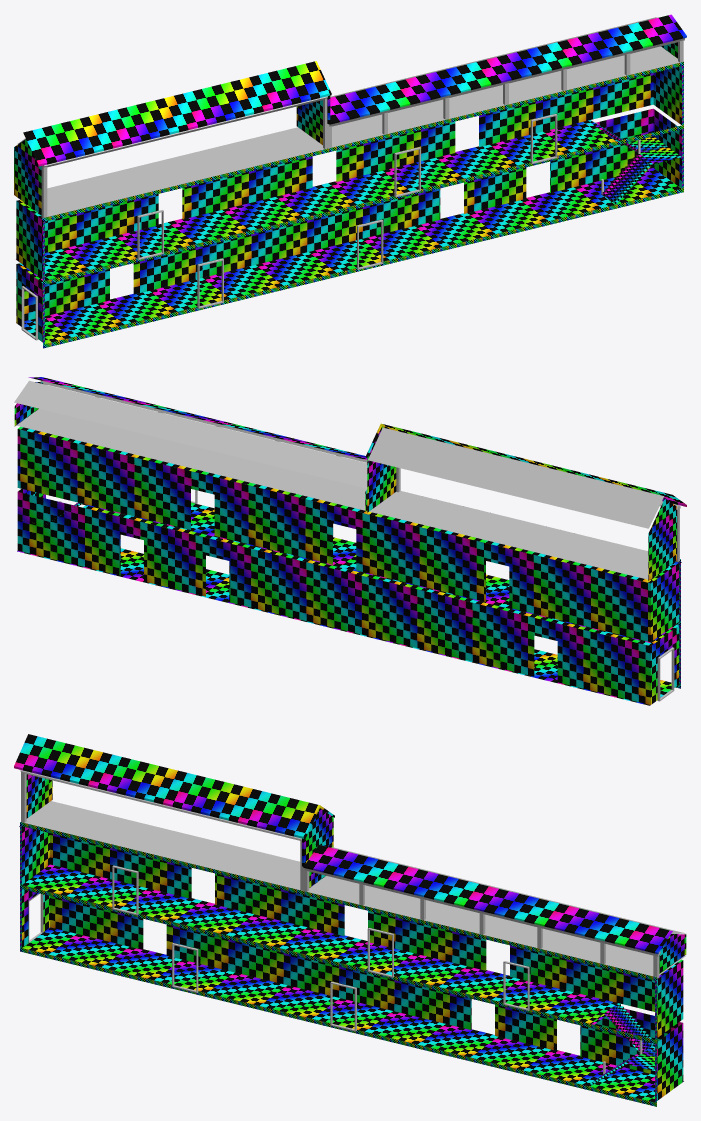
The model's file is HausMid.FBX.
3 renders of one model, top to bottom at view 1: azimuth 30°, elevation 25°; view 2: azimuth 150°, elevation 25°; view 3: azimuth 330°, elevation 25°, orthographic.
Parts seen in each view (by area): view 1: MidRoof, MidUpperCorridorWall, MidLowerCorridorWall, MidLowerCorridorFloor, MidUpperCorridorFloor, MidAtticFloor, MidBeams, MidWoodBeams, MidAtticWall, MidLowerStair, MidDoorFrames, MidAtticCeiling; view 2: MidUpperCorridorWall, MidLowerCorridorWall, MidAtticCeiling, MidAtticFloor, MidAtticWall, MidLowerCorridorFloor, MidUpperCorridorFloor, MidRoof, MidUpperCorridorCeiling, MidLowerCorridorCeiling, MidWoodBeams; view 3: MidRoof, MidUpperCorridorWall, MidLowerCorridorWall, MidLowerCorridorFloor, MidUpperCorridorFloor, MidAtticFloor, MidBeams, MidWoodBeams, MidDoorFrames, MidAtticWall, MidLowerStair, MidRoofWall (+1 smaller).
Boxes of the visible parts, x1=… form: MidRoof: x1=23, y1=14, x2=686, y2=166; MidUpperCorridorWall: x1=16, y1=66, x2=681, y2=278; MidLowerCorridorWall: x1=16, y1=108, x2=681, y2=342; MidLowerCorridorFloor: x1=16, y1=168, x2=681, y2=343; MidUpperCorridorFloor: x1=16, y1=120, x2=615, y2=280; MidAtticFloor: x1=45, y1=46, x2=683, y2=217; MidBeams: x1=43, y1=62, x2=683, y2=348; MidWoodBeams: x1=41, y1=38, x2=685, y2=218; MidAtticWall: x1=14, y1=42, x2=677, y2=214; MidLowerStair: x1=588, y1=120, x2=681, y2=203; MidDoorFrames: x1=137, y1=114, x2=557, y2=308; MidAtticCeiling: x1=17, y1=17, x2=657, y2=144; MidUpperCorridorWall: x1=17, y1=429, x2=678, y2=642; MidLowerCorridorWall: x1=17, y1=489, x2=678, y2=704; MidAtticCeiling: x1=14, y1=380, x2=663, y2=528; MidAtticFloor: x1=16, y1=408, x2=648, y2=579; MidAtticWall: x1=14, y1=382, x2=676, y2=580; MidLowerCorridorFloor: x1=17, y1=548, x2=671, y2=705; MidUpperCorridorFloor: x1=82, y1=502, x2=650, y2=642; MidRoof: x1=28, y1=377, x2=686, y2=506; MidUpperCorridorCeiling: x1=18, y1=426, x2=678, y2=583; MidLowerCorridorCeiling: x1=83, y1=505, x2=678, y2=646; MidWoodBeams: x1=40, y1=380, x2=680, y2=561; MidRoof: x1=14, y1=734, x2=672, y2=954; MidUpperCorridorWall: x1=22, y1=826, x2=683, y2=1037; MidLowerCorridorWall: x1=22, y1=889, x2=683, y2=1100; MidLowerCorridorFloor: x1=22, y1=927, x2=683, y2=1102; MidUpperCorridorFloor: x1=22, y1=864, x2=617, y2=1023; MidAtticFloor: x1=22, y1=801, x2=685, y2=977; MidBeams: x1=19, y1=822, x2=656, y2=1106; MidWoodBeams: x1=20, y1=770, x2=660, y2=978; MidDoorFrames: x1=112, y1=865, x2=529, y2=1031; MidAtticWall: x1=26, y1=774, x2=686, y2=973; MidLowerStair: x1=590, y1=1003, x2=654, y2=1085; MidRoofWall: x1=302, y1=808, x2=333, y2=866.
Size of the model in its own units: 1354 by 413 by 117.
